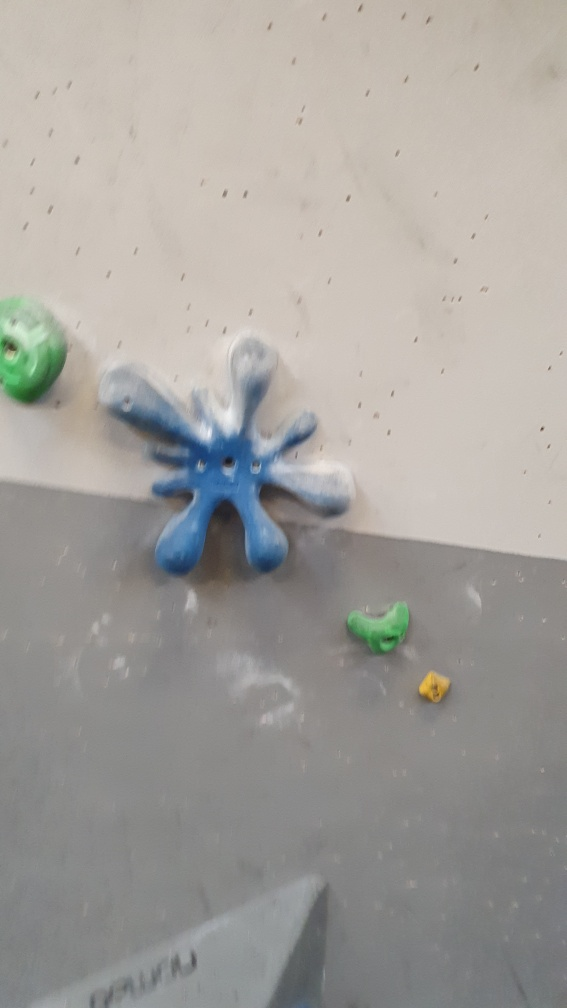Jug: (344, 592, 413, 652)
Octopus Pinch: (98, 331, 362, 586)
